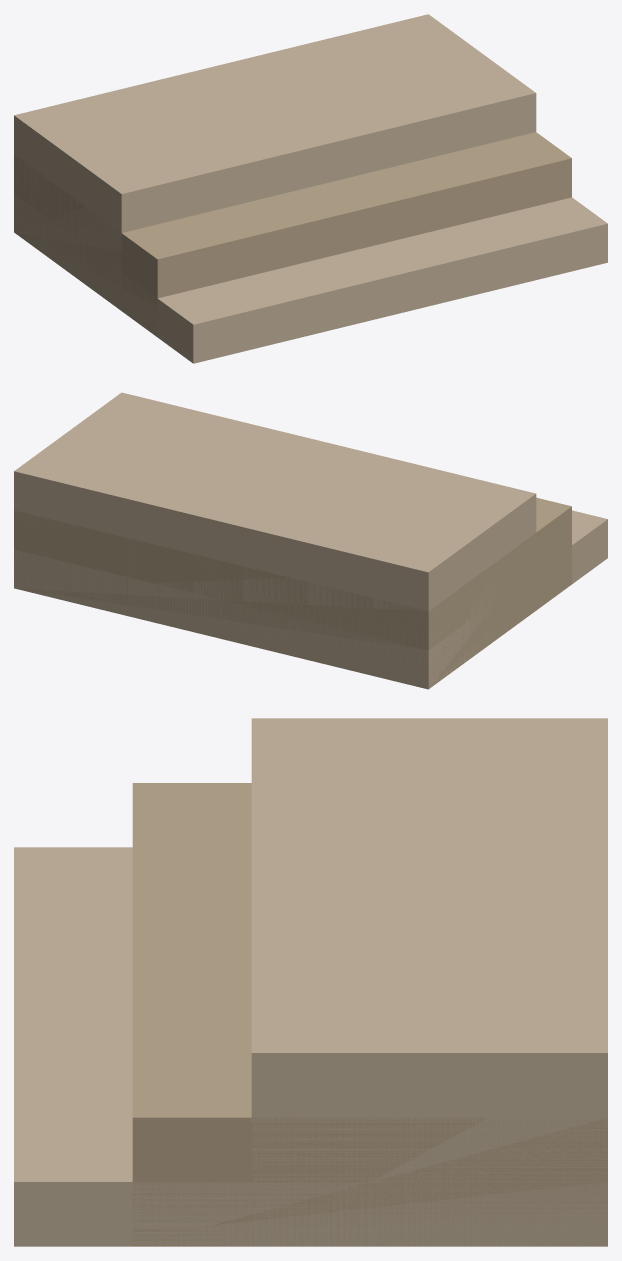
Rendered from steps_2m.glb.
3 views of the same model, one above another, from view 1: azimuth 30°, elevation 25°; view 2: azimuth 150°, elevation 25°; view 3: azimuth 270°, elevation 25° (orthographic). The views are drawn at different scales.
Parts seen in each view (by area): view 1: steps_2m; view 2: steps_2m; view 3: steps_2m.
Boxes of the visible parts, box(x1,y1,x2,y2) form: steps_2m: box(14, 14, 607, 363); steps_2m: box(14, 392, 607, 689); steps_2m: box(14, 718, 607, 1246).
Size of the model in its own units: 2 by 0.54 by 1.5.
